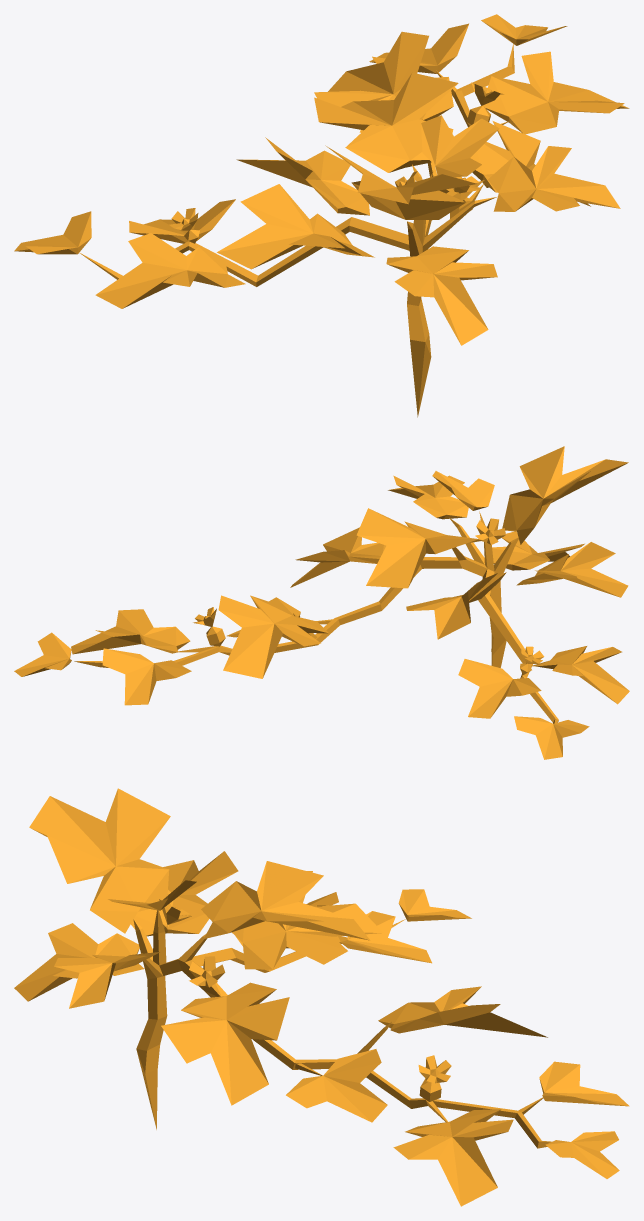
File: SM_Watermelon_Plant_Flowering_A.fbx
3 views of the same model, one above another, from view 1: azimuth 30°, elevation 25°; view 2: azimuth 150°, elevation 25°; view 3: azimuth 270°, elevation 25° (orthographic). The views are drawn at different scales.
Parts seen in each view (by area): view 1: watermelon-plant-flowering-a; view 2: watermelon-plant-flowering-a; view 3: watermelon-plant-flowering-a.
Part boxes in pixels (x1,y1,x2,y2): watermelon-plant-flowering-a: (14, 14, 629, 417); watermelon-plant-flowering-a: (14, 446, 629, 759); watermelon-plant-flowering-a: (14, 788, 629, 1206).
Size of the model in its own units: 1.35 by 0.6359 by 1.21.
